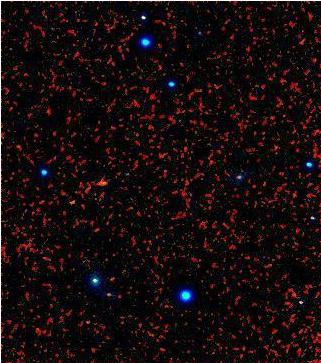star: (85, 166, 115, 196)
